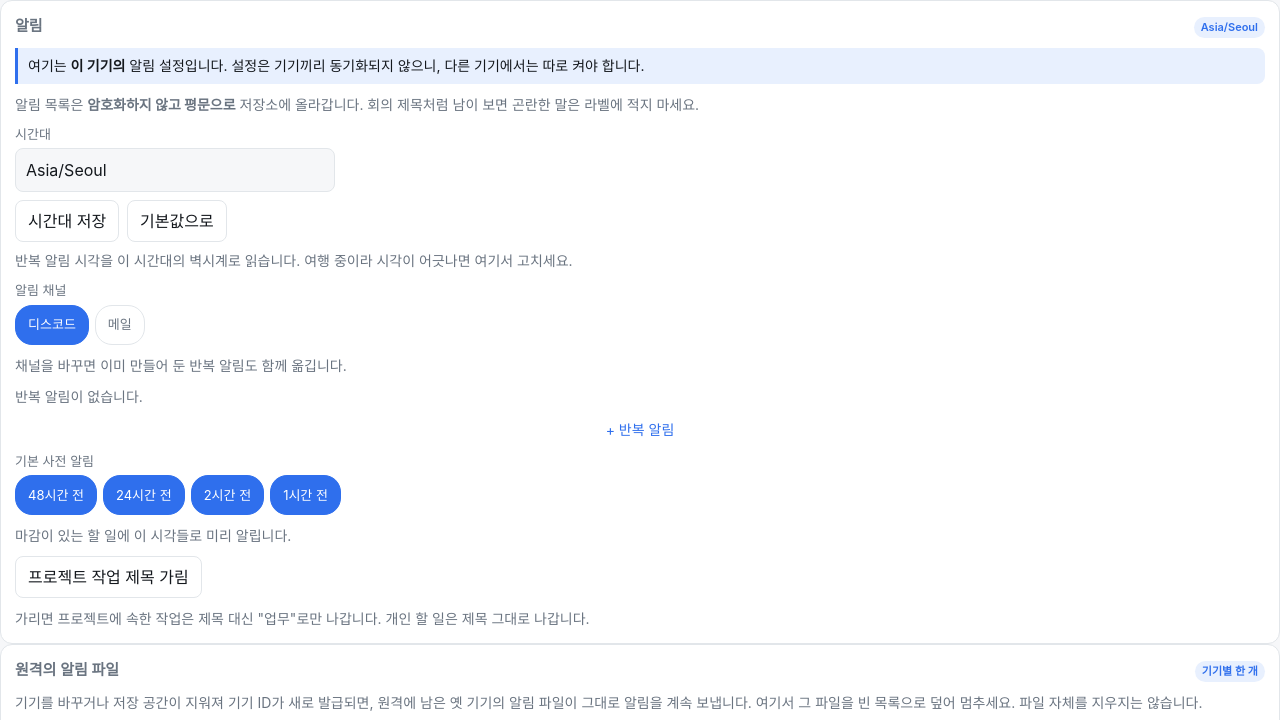
Test: 알림 설정 — 시간대 고치기 › 시간대를 바꾸면 만들어지는 알림 파일의 tz가 바뀐다
Replace the text in the field labelled "시간대" with "America/New_York" at coordinates (175, 170), box left=15, top=148, right=335, bottom=192
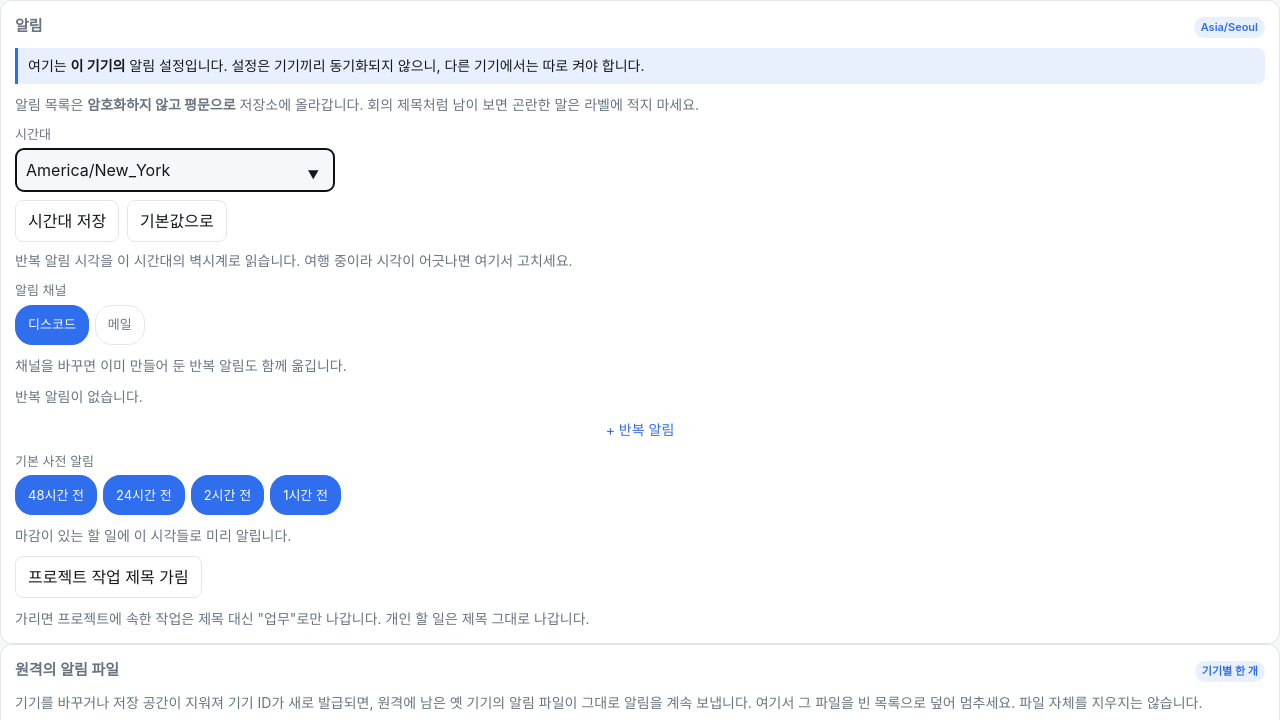
Click the button "시간대 저장" at coordinates (67, 221), box left=15, top=200, right=119, bottom=242
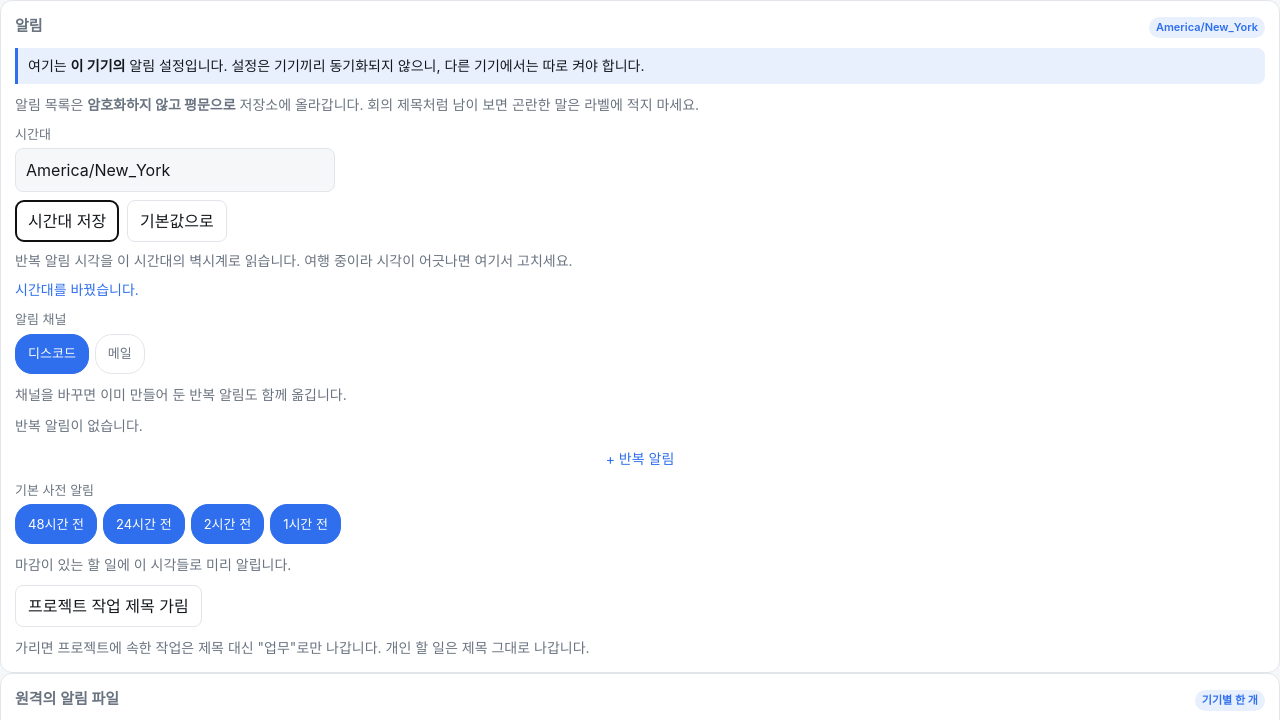
Expected: the text "America/New_York" is shown, left=1149, top=17, right=1265, bottom=38
